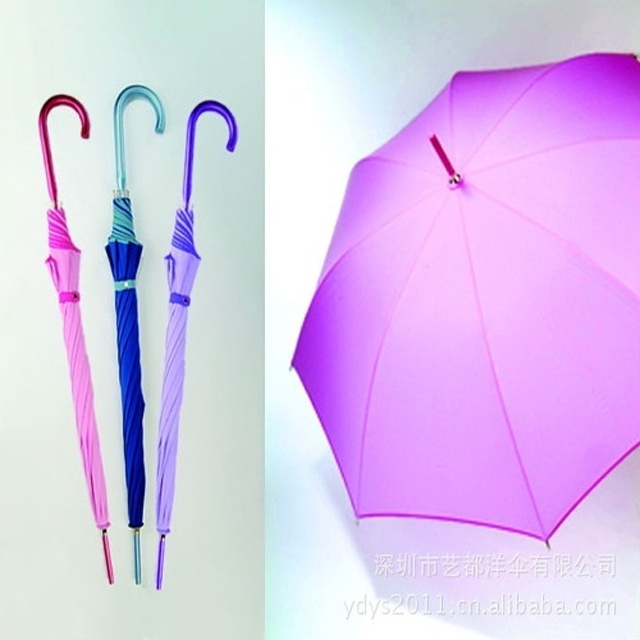umbrella: (288, 50, 640, 551), (153, 96, 241, 594), (34, 92, 119, 585), (103, 83, 165, 588)
